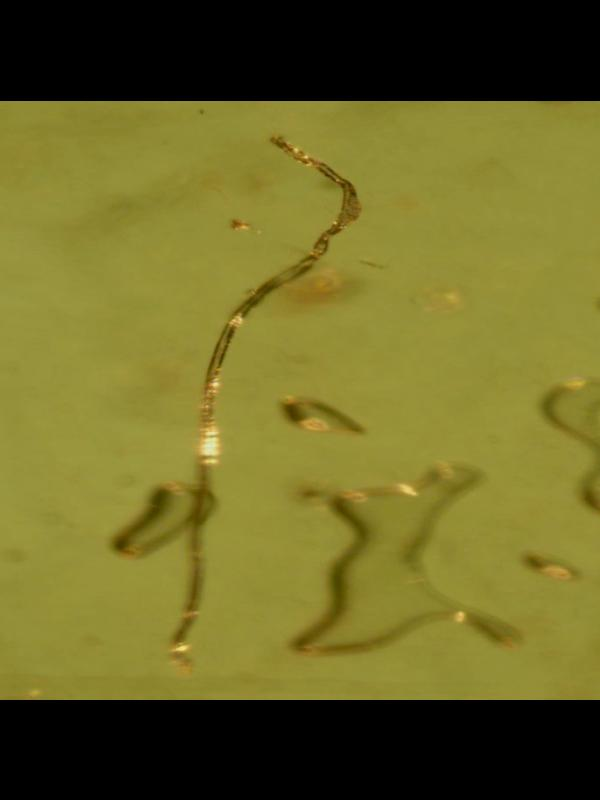microplastic: (111, 133, 367, 672)
